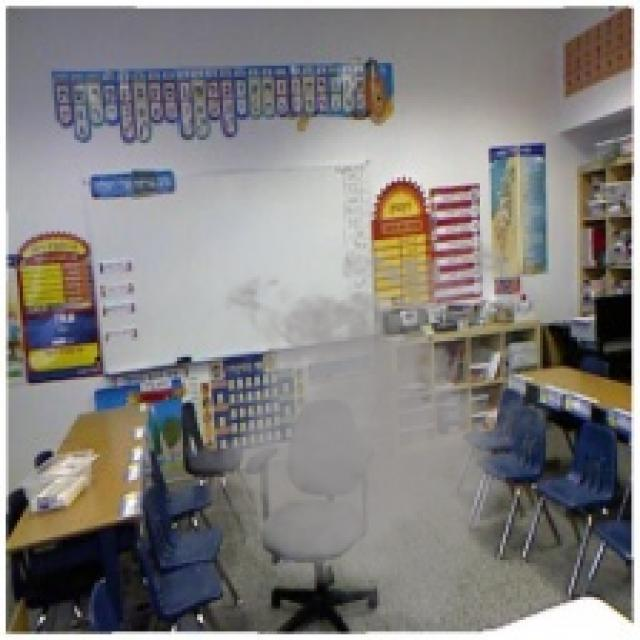Smoke: (163, 226, 572, 628)
